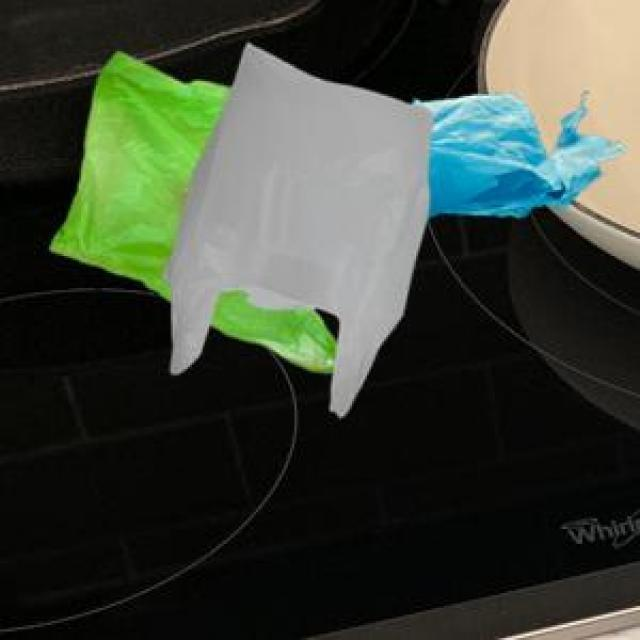waste: (51, 45, 619, 416)
